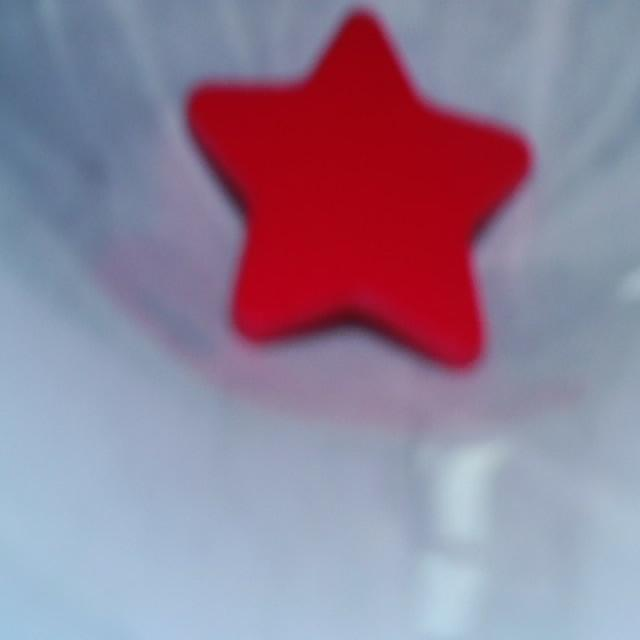star: (189, 13, 528, 357)
